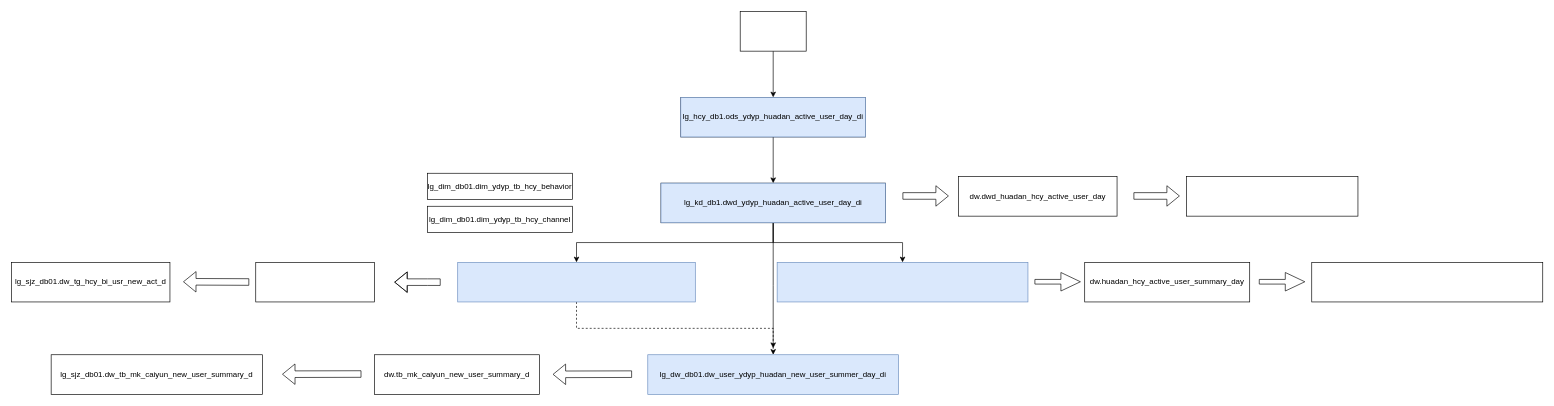
Image size: 1554x406. Some labels were removed from this diagram. The box of each missing label's shape, as (x1, y1, x2, y2) in pixels:
dw.tg_hcy_bi_usr_new_act_d: (255, 262, 375, 302)
lg_dw_db01. dw_user_ydyp_huadan_active_user_summer_ day_di: (776, 262, 1028, 302)
lg_dw_db01.dw_user_ydyp_huadan_active_user_month_di: (457, 262, 695, 302)
lg_sjz_db01.dw_huadan_hcy_active_user_summary_day: (1311, 262, 1543, 302)
lg_sjz_db01.dwd_huadan_hcy_active_user_day: (1186, 176, 1358, 216)
话单: (740, 11, 806, 51)
